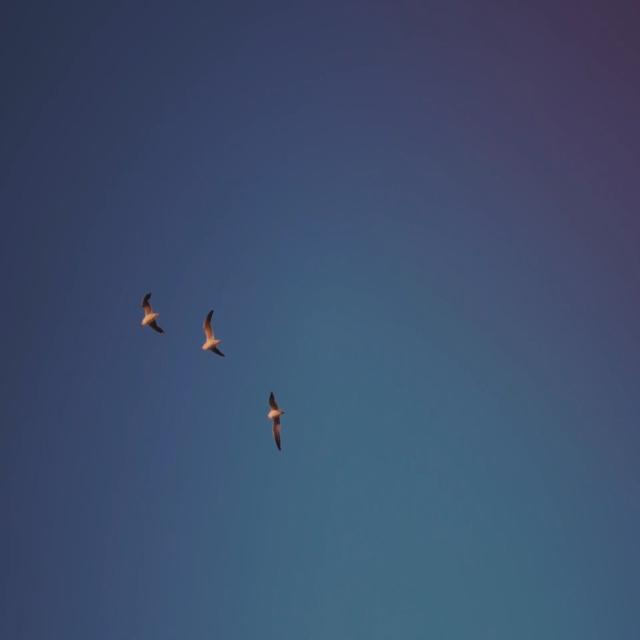bird: (200, 307, 226, 358), (140, 288, 167, 336), (266, 390, 286, 453)
